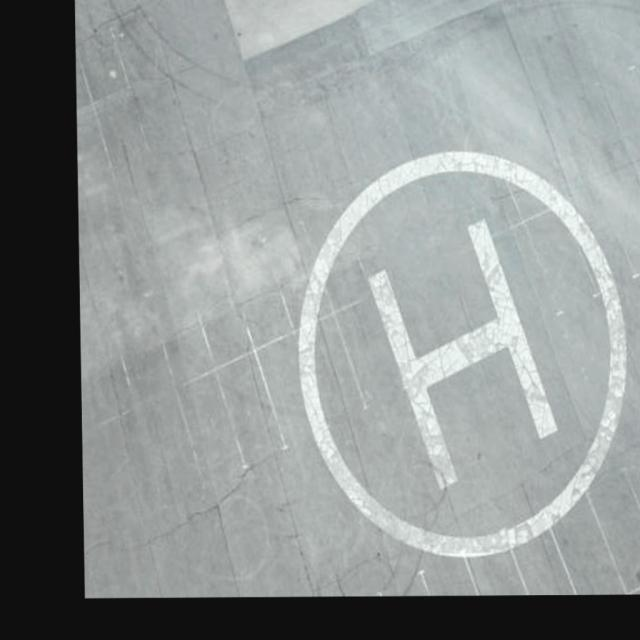helipad: (292, 142, 630, 560)
